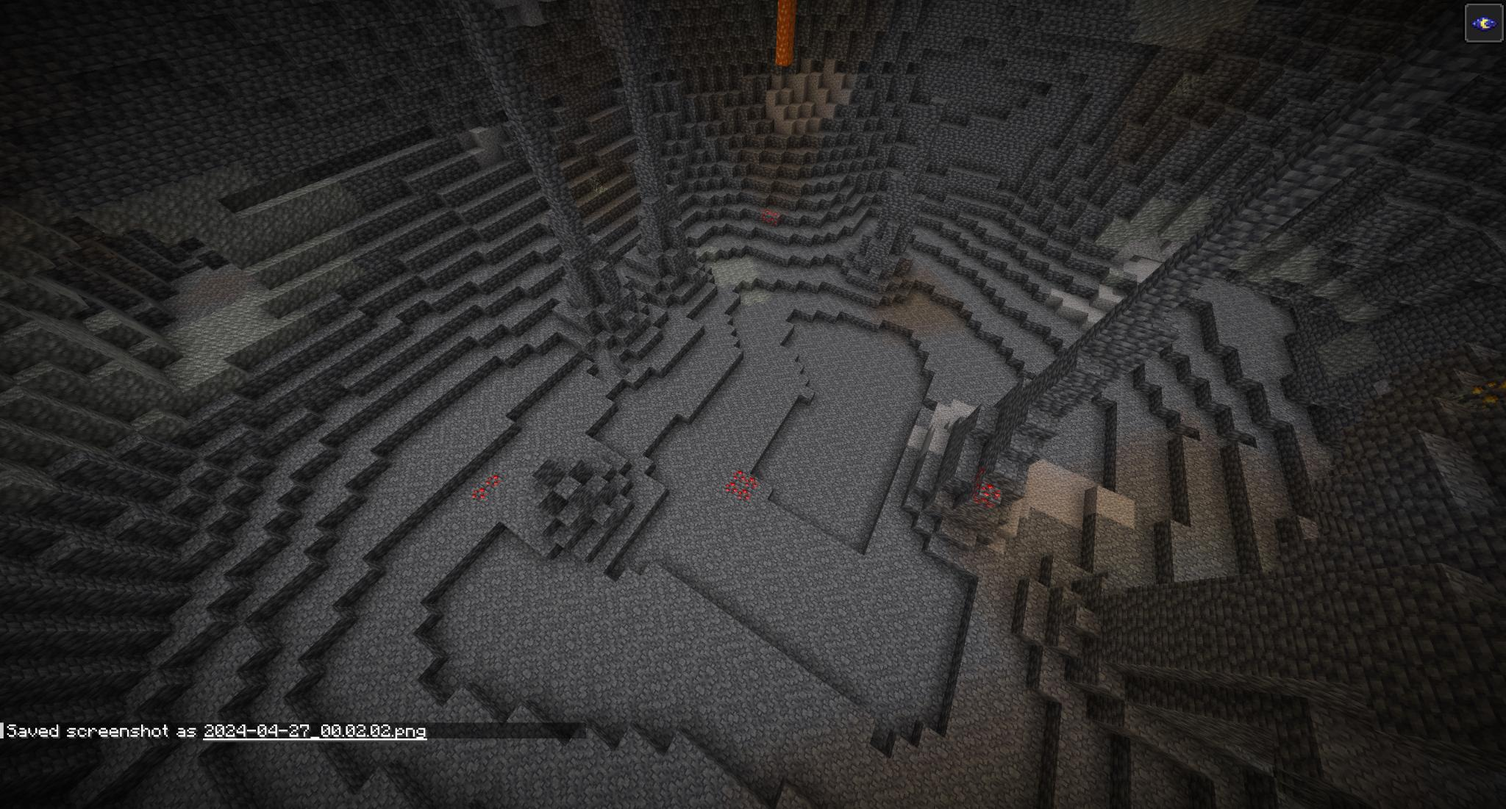gold ore: (1466, 372, 1506, 413)
redstone ore: (724, 470, 761, 503), (975, 468, 1001, 510), (471, 474, 503, 503), (759, 209, 789, 229)
